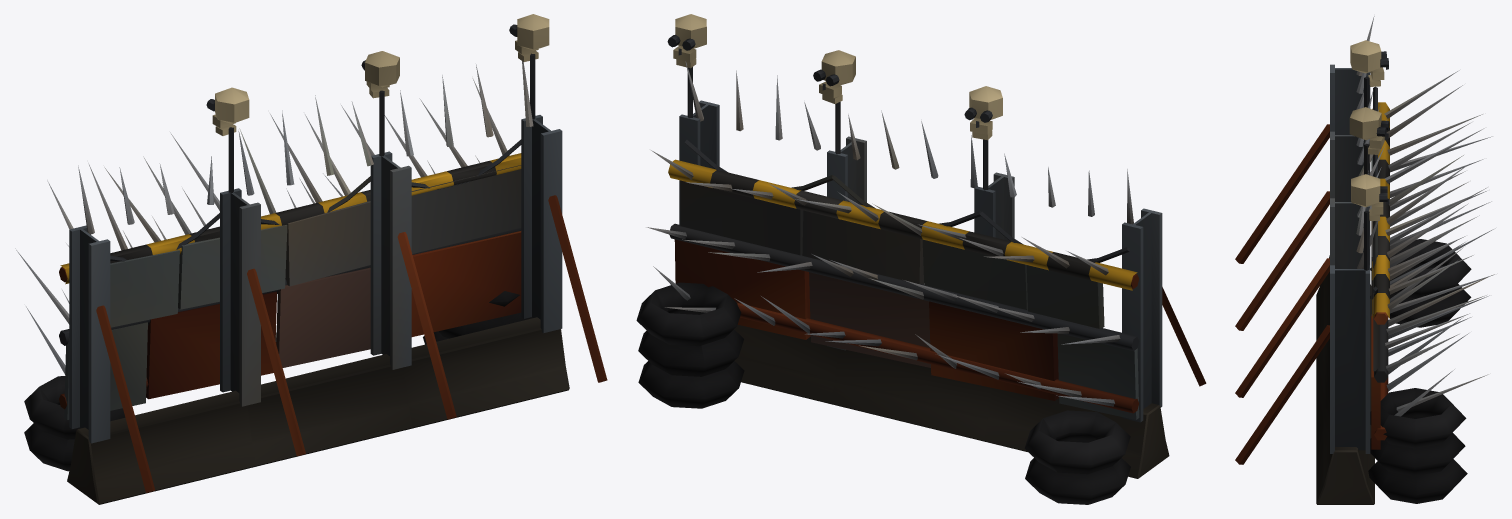
The model's file is spike_wall.glb.
3 views of the same model, side by side, from view 1: azimuth 30°, elevation 25°; view 2: azimuth 150°, elevation 25°; view 3: azimuth 270°, elevation 25° (orthographic). The views are drawn at different scales.
Visible parts, largest first — view 1: concrete_dark, steel_beam, metal_bare, rust, spike, rubber, hazard, bone, metal_dark; view 2: metal_bare, concrete_dark, rubber, rust, steel_beam, spike, metal_dark, hazard, bone; view 3: steel_beam, spike, rubber, rust, concrete_dark, bone, metal_dark, hazard, metal_bare.
Part boxes in pixels (x1,y1,x2,y2): concrete_dark: (67,317,569,504); steel_beam: (69,115,562,443); metal_bare: (64,165,521,419); rust: (59,195,607,492); spike: (15,61,533,374); rubber: (24,291,532,471); hazard: (60,153,521,284); bone: (212,14,549,135); metal_dark: (59,24,535,345); metal_bare: (680,180,1139,419); concrete_dark: (734,325,1169,478); rubber: (636,282,1130,504); rust: (674,239,1206,413); steel_beam: (679,100,1162,422); spike: (646,61,1133,406); metal_dark: (667,35,1139,351); hazard: (668,159,1137,290); bone: (673,14,1002,140); steel_beam: (1330,64,1370,453); spike: (1356,16,1495,416); rubber: (1368,239,1471,503); rust: (1235,124,1388,464); concrete_dark: (1316,255,1374,504); bone: (1349,40,1384,220); metal_dark: (1364,51,1389,382); hazard: (1372,102,1389,318); metal_bare: (1371,156,1379,371).
Size of what is drawn, in the model's own units: 7.36 by 5.09 by 3.71.
